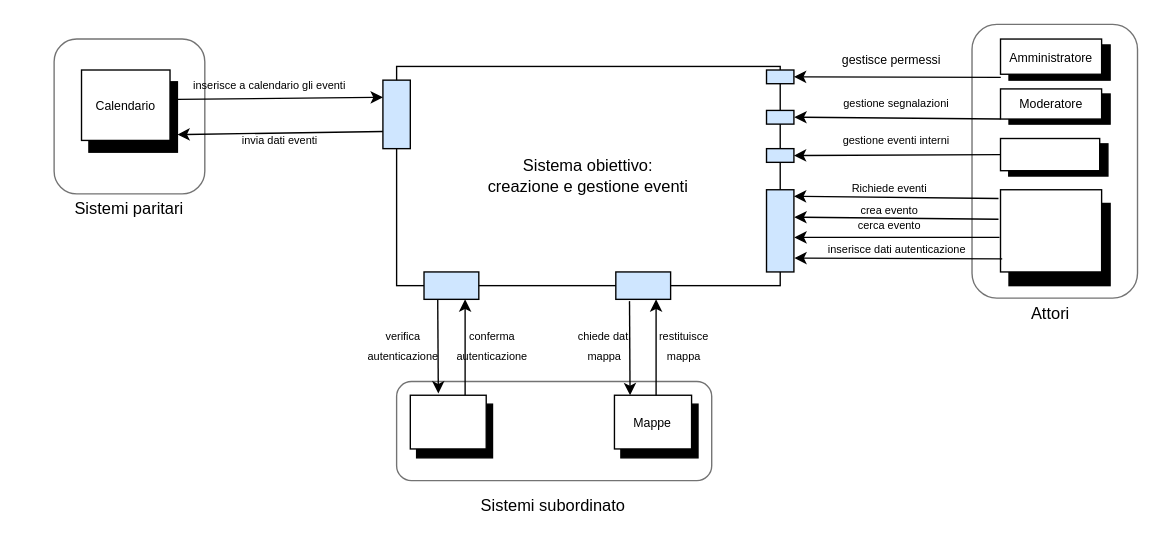
The diagram is 1163 pixels wide and 543 high, and some of its shapes have lost their labels. Here are the shapes that lost their labels. From the top down, the centre of each, then its label:
pixel 1049 154: Event manager
pixel 1050 230: Studente
pixel 447 421: Login
